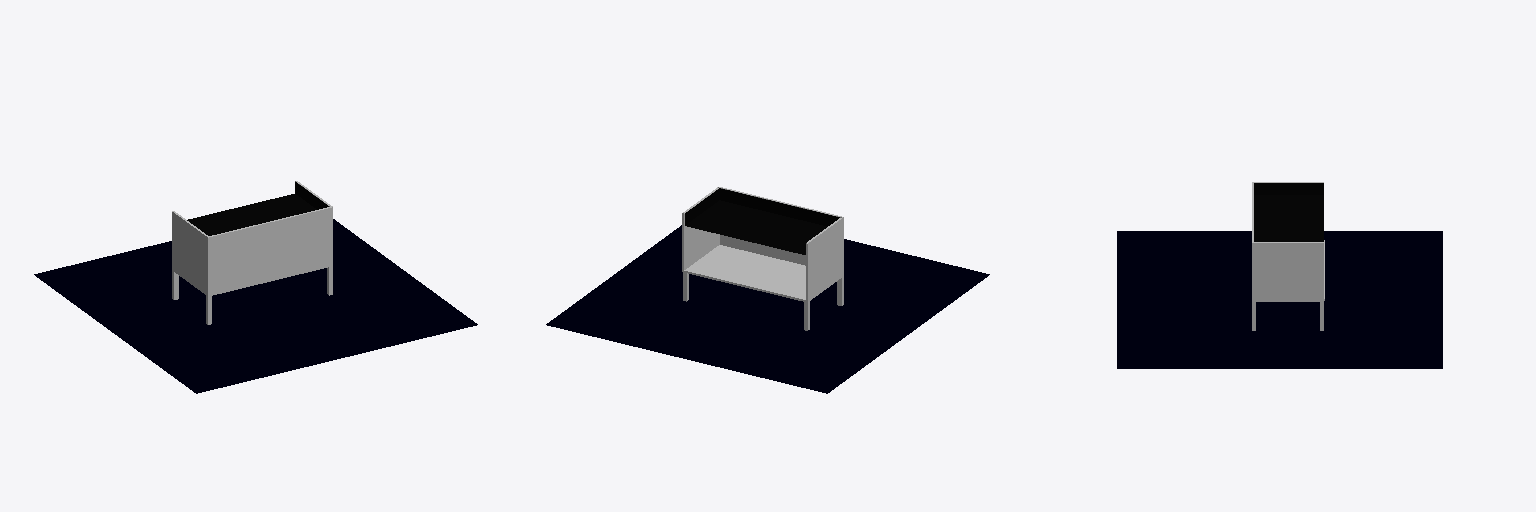
File: MejaTutulo.obj
3 views of the same model, side by side, from view 1: azimuth 30°, elevation 25°; view 2: azimuth 150°, elevation 25°; view 3: azimuth 270°, elevation 25° (orthographic).
Parts seen in each view (by area): view 1: Plane.010_Plane.011, Plane, Plane.009_Plane.010, Plane.002; view 2: Plane.010_Plane.011, Plane.009_Plane.010, Plane.008, Plane.002, Plane.001, Plane; view 3: Plane.010_Plane.011, Plane.001, Plane.009_Plane.010.
Part boxes in pixels (x1,y1,x2,y2): Plane.010_Plane.011: (34,219,477,393); Plane: (208,206,332,296); Plane.009_Plane.010: (187,182,328,235); Plane.002: (172,211,207,295); Plane.010_Plane.011: (546,225,989,393); Plane.009_Plane.010: (685,188,839,254); Plane.008: (684,245,805,301); Plane.002: (806,217,843,302); Plane.001: (682,187,719,271); Plane: (718,187,842,265); Plane.010_Plane.011: (1117,231,1442,368); Plane.001: (1252,242,1323,301); Plane.009_Plane.010: (1254,183,1323,241).
Size of the model in its own units: 5.5 by 1.63 by 5.5.